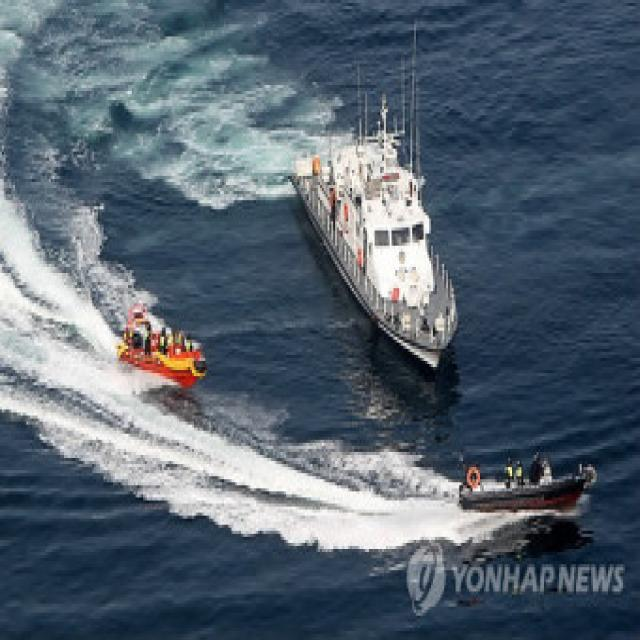Ship: (459, 450, 607, 535)
